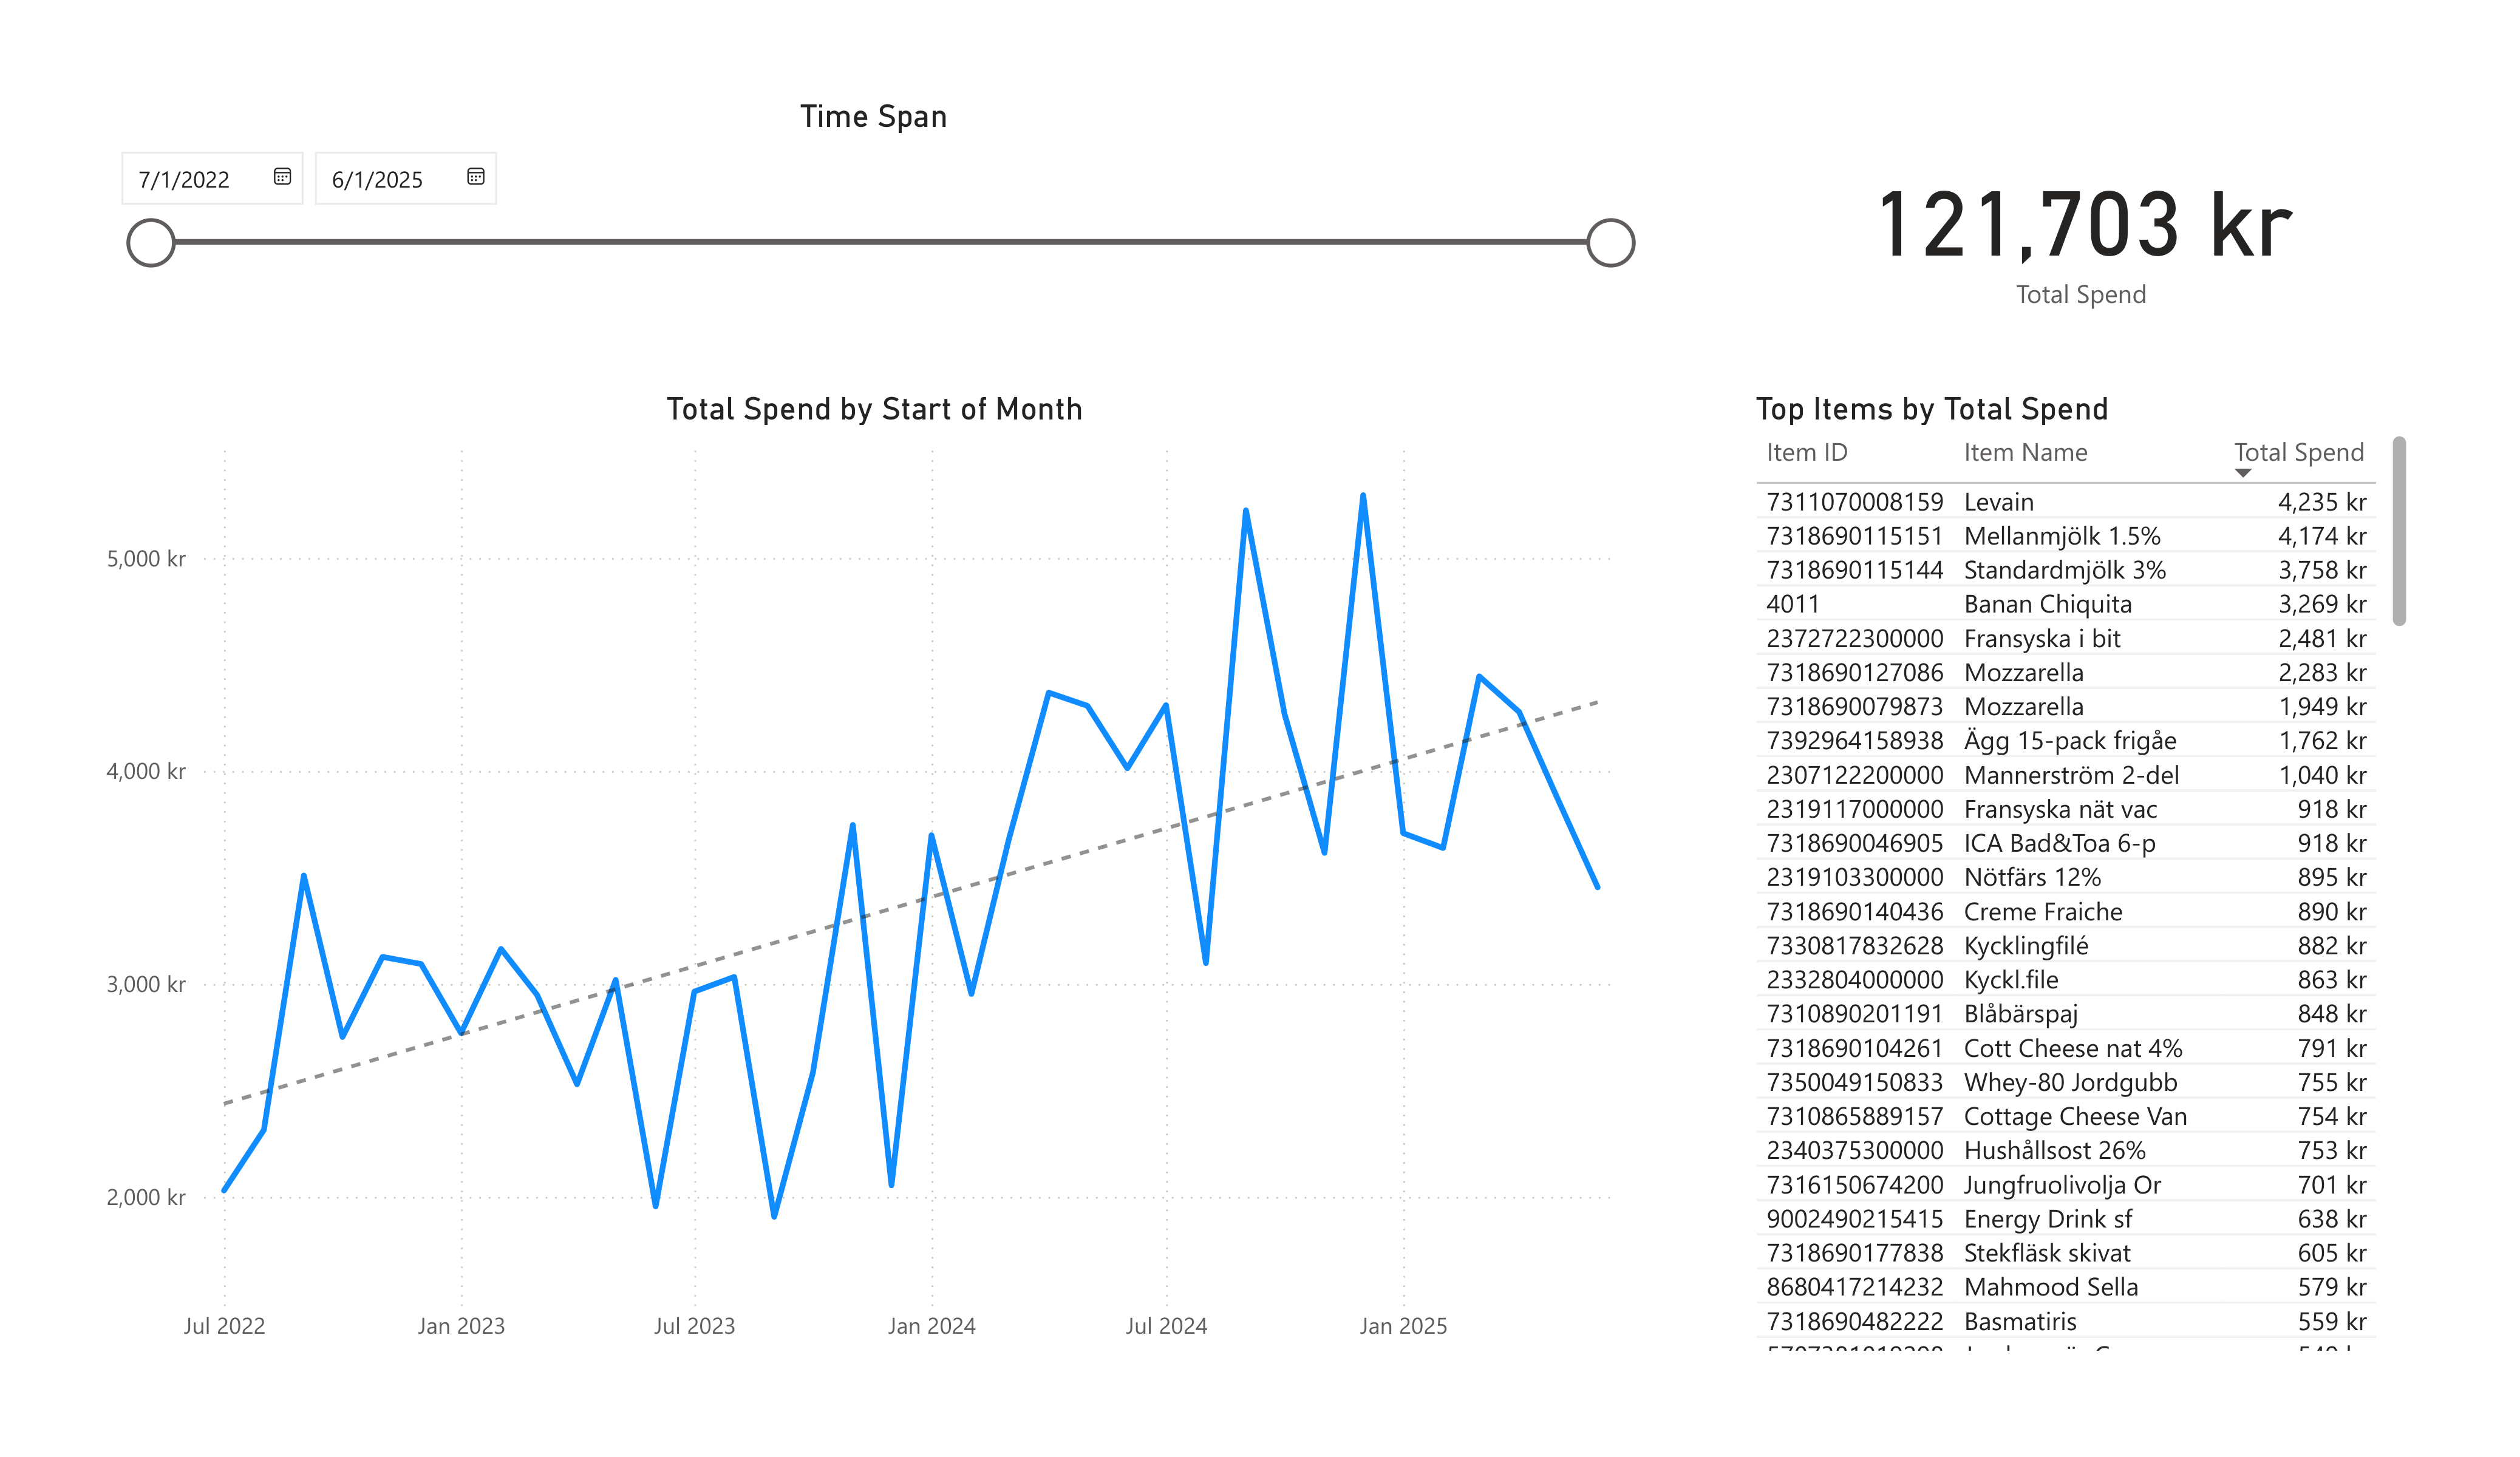

Layout of this report page (visuals, bound fields, positions):
{"tool":"powerbi","page":{"name":"Spending","canvas":[1280,720],"ordinal":1},"visuals":[{"type":"lineChart","fields":{"Category":["Calendar Lookup.Calendar Hierarchy.Start of Month","Calendar Lookup.Calendar Hierarchy.Start of Week","Calendar Lookup.Calendar Hierarchy.Date"],"Y":["Measure Table.Total Spend"]},"box":[26.6,181.1,820.1,511.9],"z":0},{"type":"slicer","title":"Time Span","fields":{"Values":["Calendar Lookup.Start of Month"]},"box":[26.8,26.8,819.6,114.7],"z":1000},{"type":"card","title":"Total Receipts","fields":{"Values":["Measure Table.Total Spend"]},"box":[896.3,50.7,353.9,90.9],"z":2000},{"type":"tableEx","title":"Top Items by Total Spend","fields":{"Values":["Item Lookup.Item ID","Item Lookup.Item Name","Measure Table.Total Spend"]},"box":[896.3,181,353.9,511.9],"z":3000}]}

Visuals, with their boxes on the page's 1280x720 design canvas (x1, y1, x2, y2). These are canvas units, not pixel positions in the 2520x1457 screenshot, which may show the page scaled, cropped or inside an application window:
lineChart - Calendar Lookup.Calendar Hierarchy.Start of Month x Calendar Lookup.Calendar Hierarchy.Start of Week: (x1=27, y1=181, x2=847, y2=693)
"Time Span" slicer: (x1=27, y1=27, x2=846, y2=142)
"Total Receipts" card: (x1=896, y1=51, x2=1250, y2=142)
"Top Items by Total Spend" tableEx: (x1=896, y1=181, x2=1250, y2=693)
